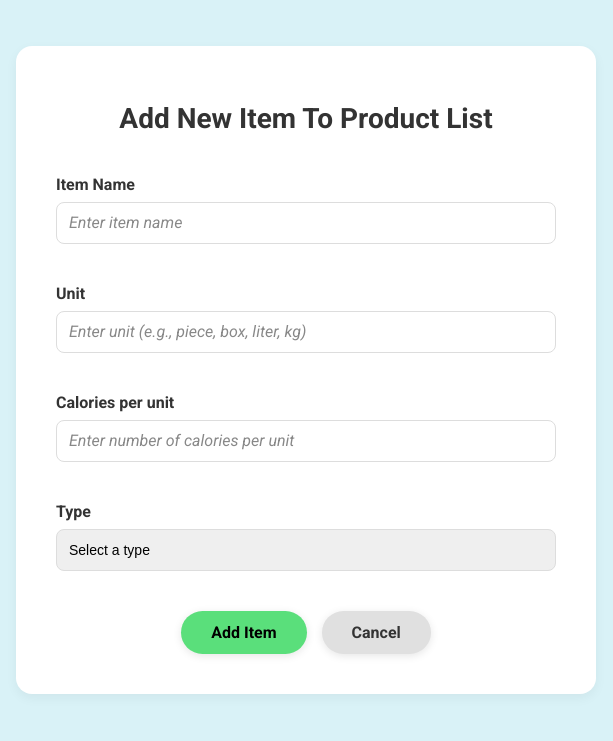
AddItemView › validates empty unit field
This screenshot has width=613, height=741.
Fill other required fields
Type "Test Item" into the field with id "name".
click(306, 223); type("Test Item")  # box [56,202,556,244]
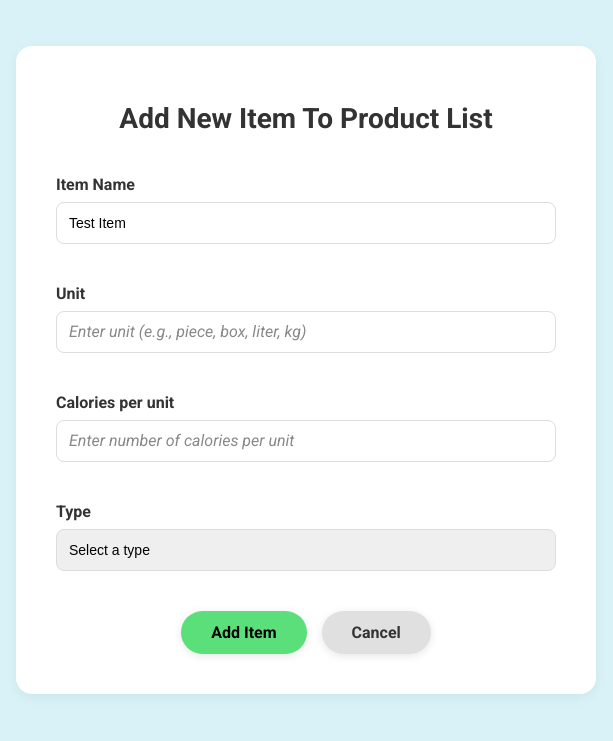
Type "100" into the number field with id "calories".
click(306, 441); type("100")  # box [56,420,556,462]
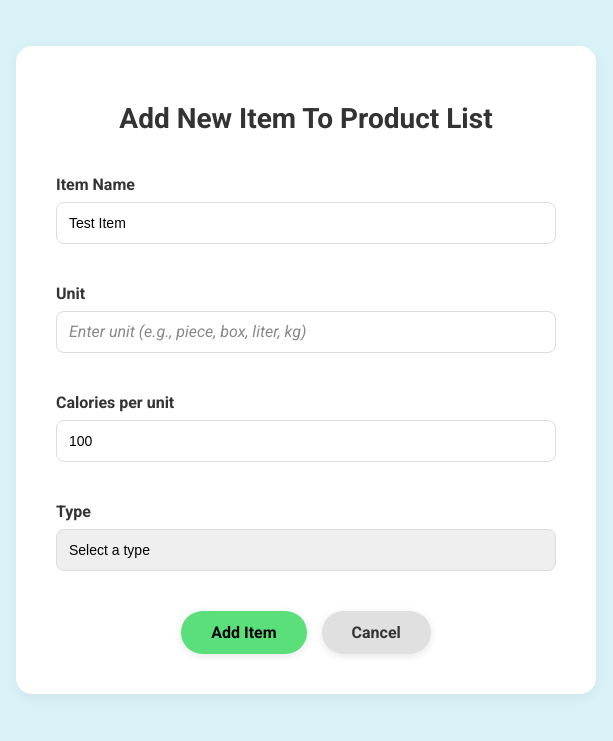
Select "Food" in the dropdown with id "type" at {"x": 306, "y": 550}, box [56,529,556,571]
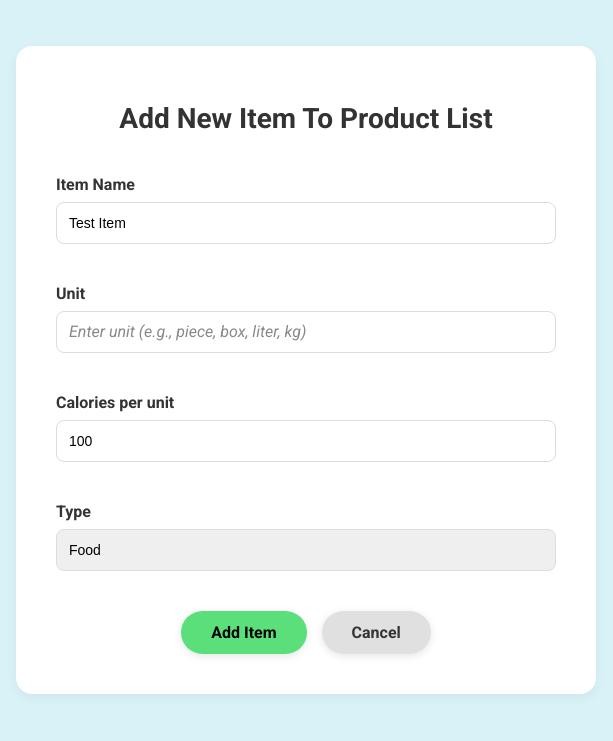
Submit with empty unit
Click the button with class "add-button".
click(244, 632)  # box [181,611,306,654]
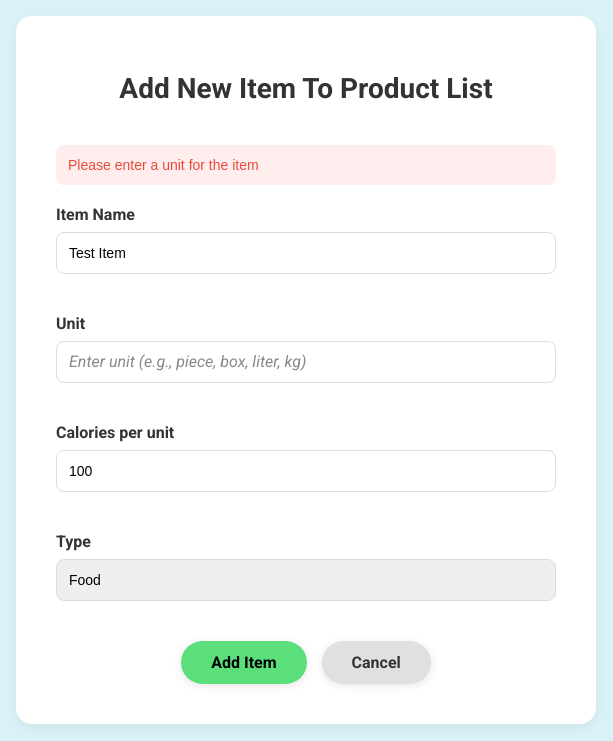
Expected: the text with class "error-message" reads "Please enter a unit for the item", [68,157,259,173]
